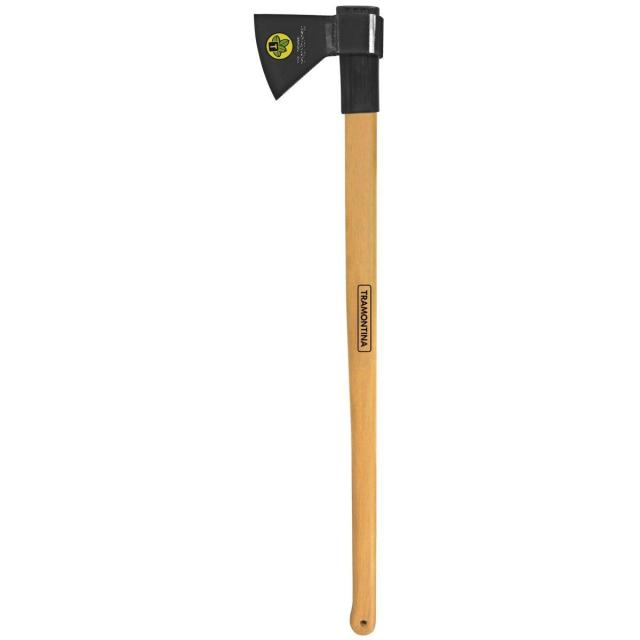Kapak: (206, 3, 451, 640)
